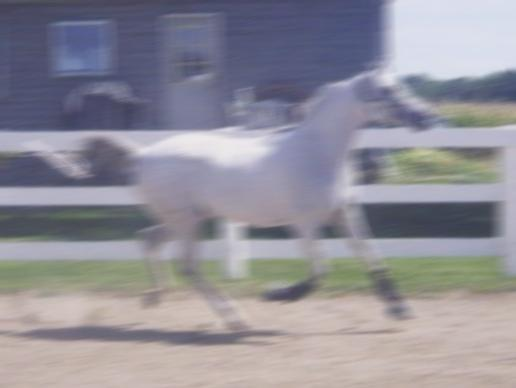horse: (24, 53, 436, 336)
